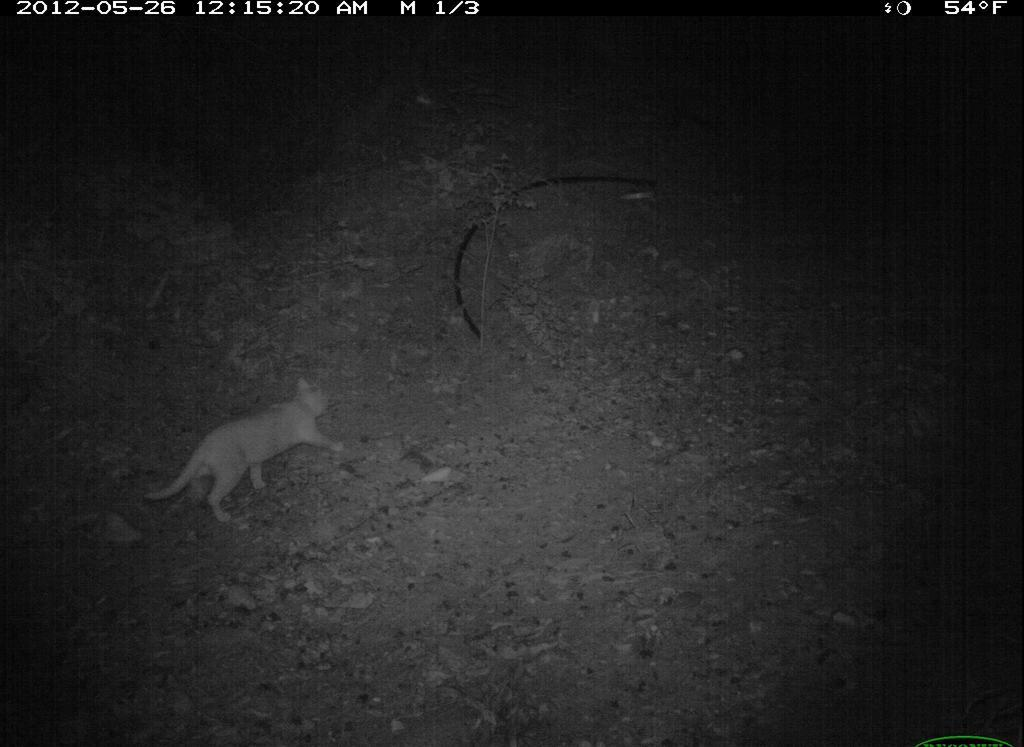cat: (137, 368, 351, 530)
